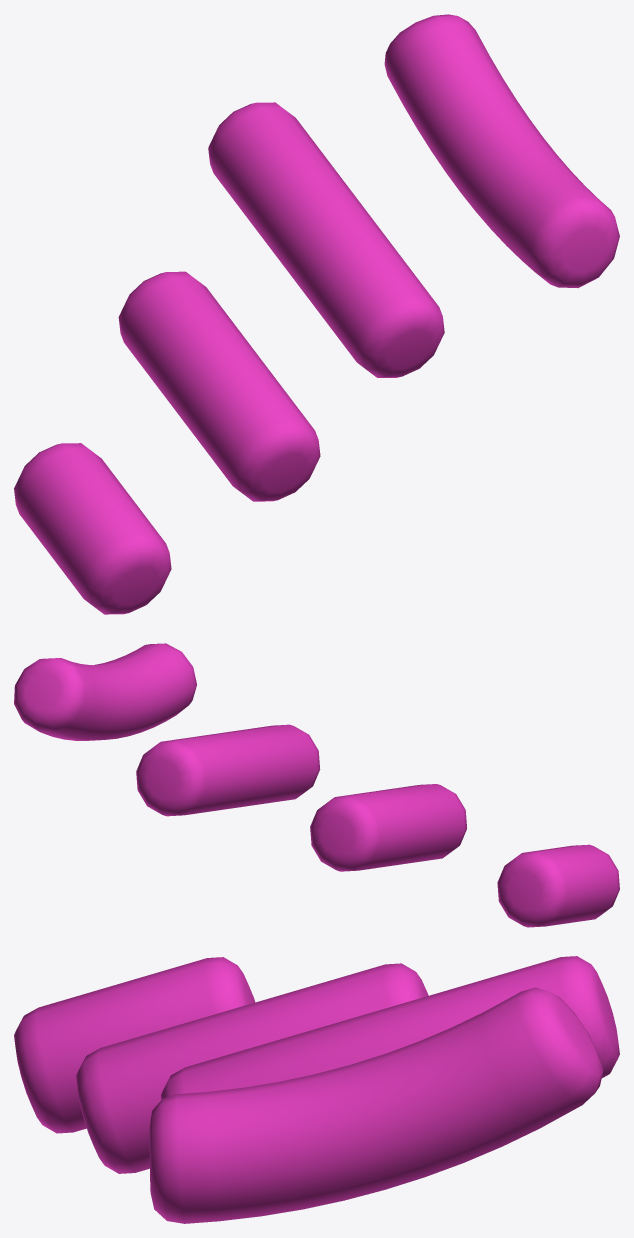
File: icing.glb
The picture shows the model from 3 angles, top to bottom: view 1: azimuth 30°, elevation 25°; view 2: azimuth 150°, elevation 25°; view 3: azimuth 270°, elevation 25°; orthographic projection. The views are drawn at different scales.
Parts seen in each view (by area): view 1: Cylinder.002, Cylinder.003, Cylinder.001, Cylinder; view 2: Cylinder.003, Cylinder.002, Cylinder.001, Cylinder; view 3: Cylinder.003, Cylinder.001, Cylinder.002, Cylinder.
Part boxes in pixels (box(x1,y1,x2,y2)): Cylinder.002: box(208, 102, 444, 377); Cylinder.003: box(384, 14, 619, 287); Cylinder.001: box(118, 271, 320, 501); Cylinder: box(14, 443, 171, 614); Cylinder.003: box(14, 643, 196, 740); Cylinder.002: box(136, 724, 320, 816); Cylinder.001: box(310, 784, 466, 871); Cylinder: box(497, 844, 619, 927); Cylinder.003: box(149, 987, 603, 1223); Cylinder.001: box(76, 963, 428, 1173); Cylinder.002: box(161, 956, 619, 1099); Cylinder: box(14, 957, 255, 1133).
Size of the model in its own units: 1.4 by 0.7887 by 0.9618.
